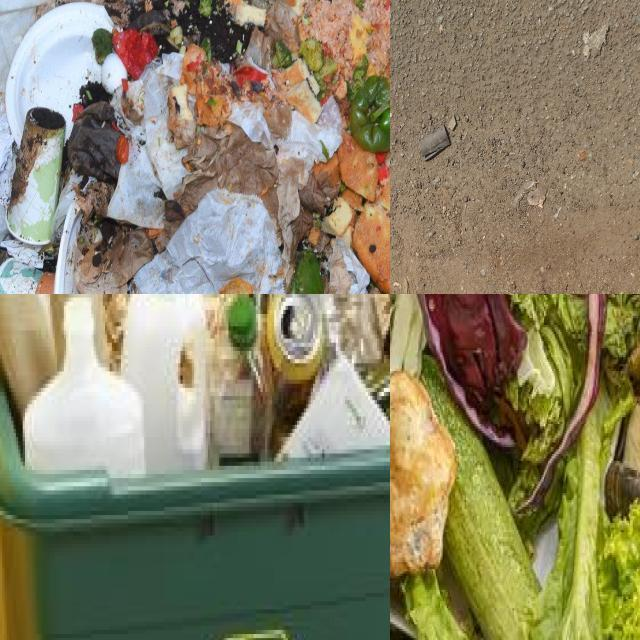Background: (390, 0, 640, 294)
Garbage: (390, 294, 640, 640), (0, 294, 390, 473)
Plastic: (23, 298, 145, 477), (121, 294, 208, 473)
Plastic_bottle: (210, 294, 272, 466), (314, 294, 380, 374)
can: (264, 294, 327, 453)
